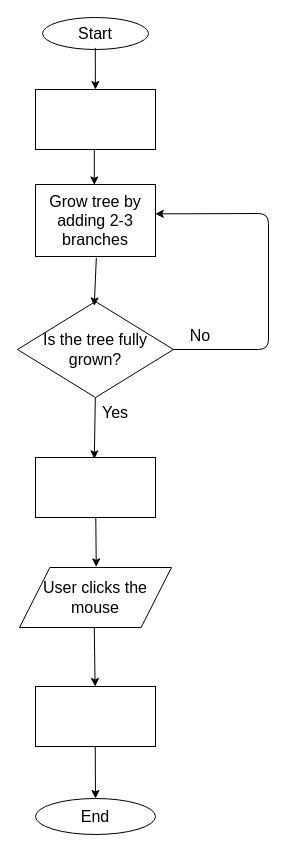
The diagram is 294 pixels wide and 852 high, and some of its shapes have lost their labels. Here are the shapes that lost their labels. From the top down, the box of each, then its label:
(34, 88, 156, 150): Create root of tree
(34, 456, 156, 518): Grow leaves
(34, 686, 156, 746): Leaves fall
